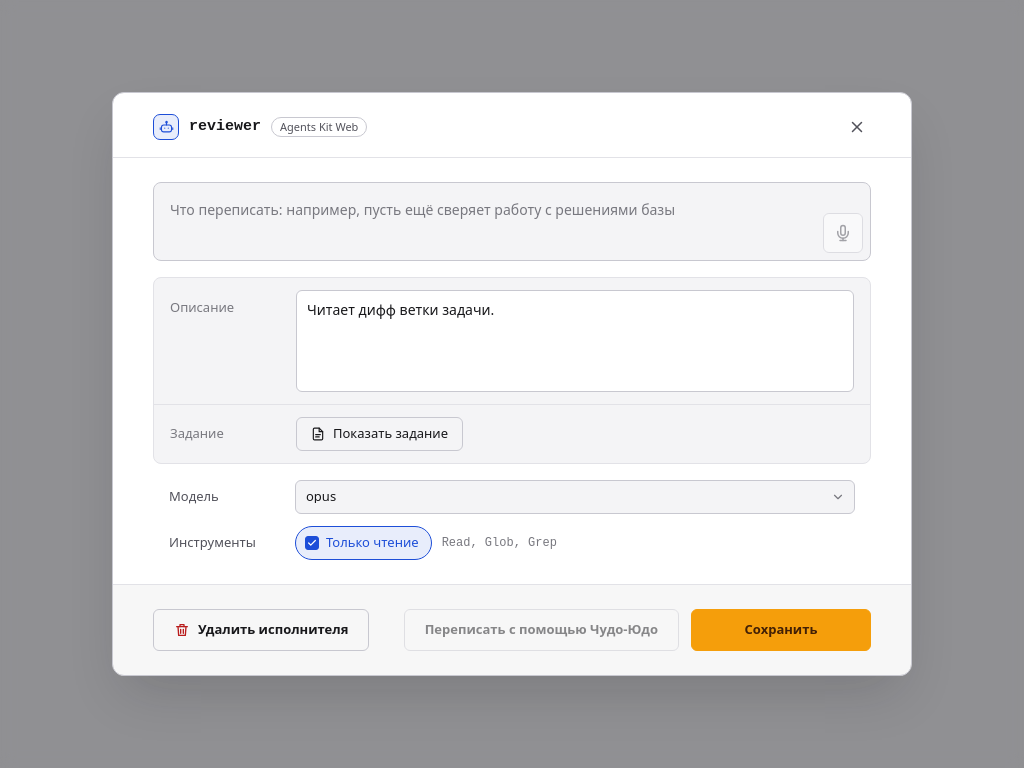
Test: отказ API описанию назван своей строкой, а не ошибкой имени
Click the button "Сохранить".
click(781, 630)  # box top-left (691, 609), bottom-right (871, 651)
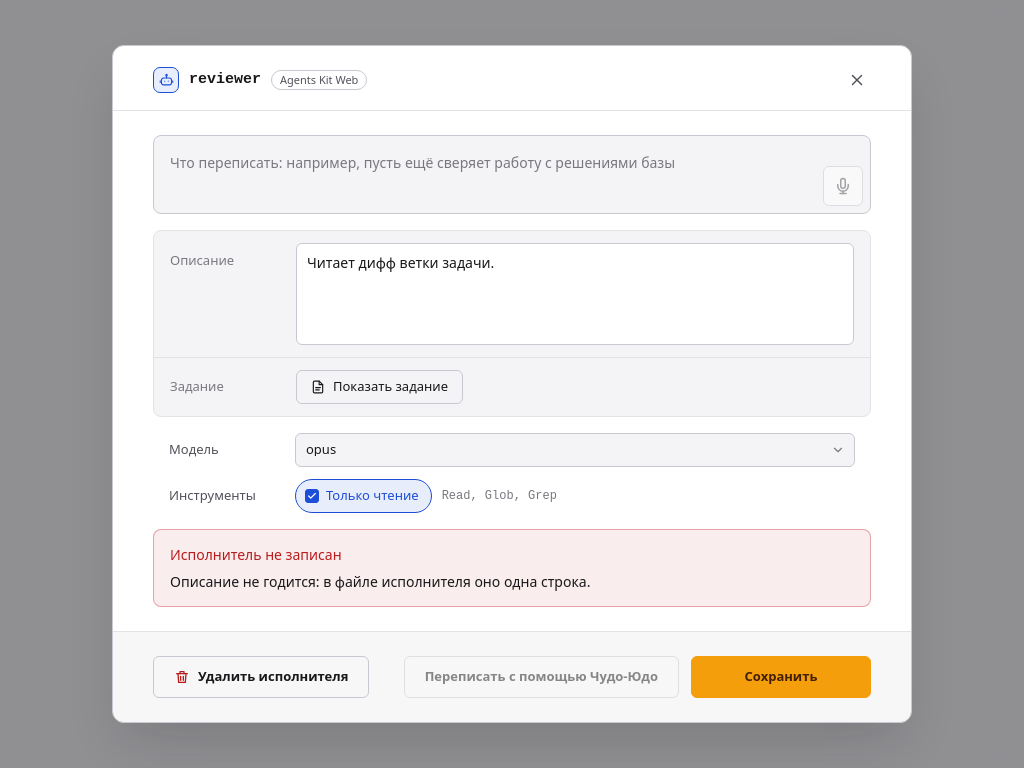
Now the message shows "Описание не годится", box top-left (170, 572), bottom-right (590, 591)
